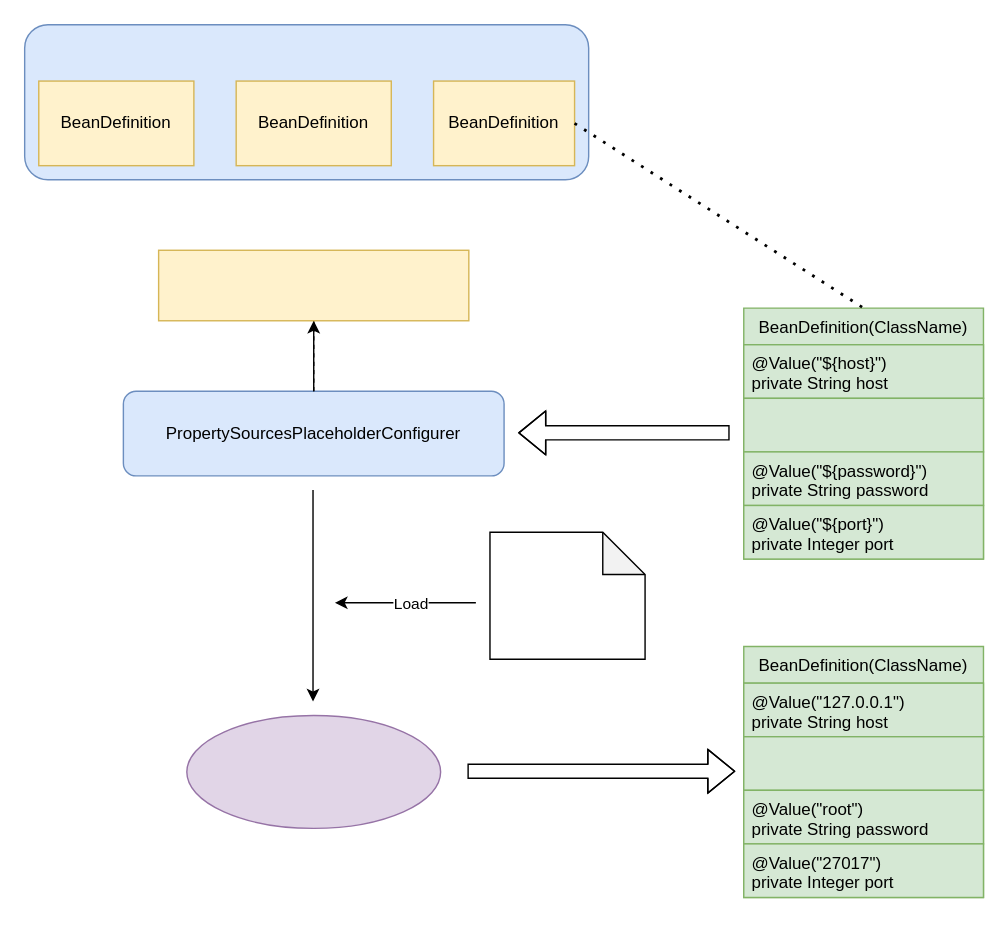
The diagram is 1008 pixels wide and 926 high, and some of its shapes have lost their labels. Here are the shapes that lost their labels. From the top down, the box of each, then its label:
(23, 23, 589, 180): ConfigurableListableBeanFactory
(157, 249, 469, 321): «interface» BeanFactoryPostProcessor
(742, 397, 983, 452): @Value("${user}") private String user
(489, 531, 645, 659): property.properties
(185, 714, 441, 828): postProcessBeanFactory
(742, 735, 983, 790): @Value("root") private String user
